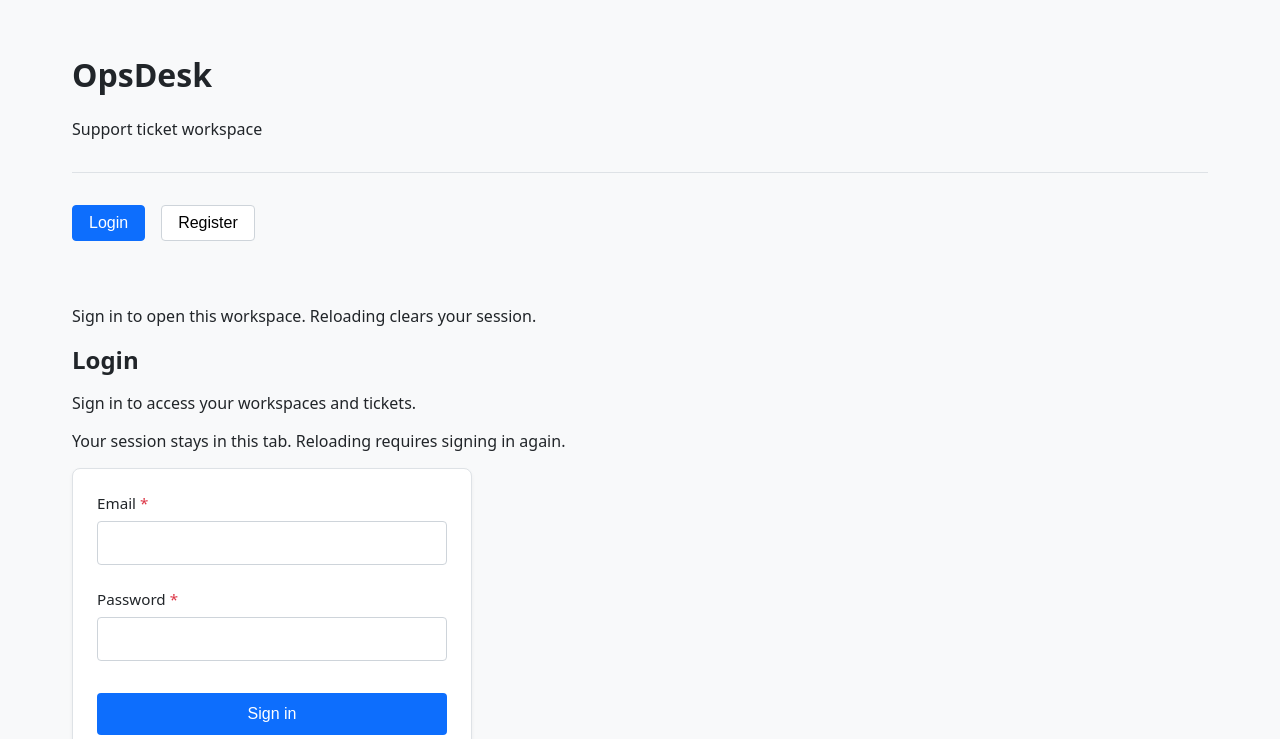
Scenario: lists memberships with roles and navigates to the selected organization
Step 1. Type "demo@example.com" into the field labelled "Email *" → [272, 543], box x1=97 y1=521 x2=447 y2=565
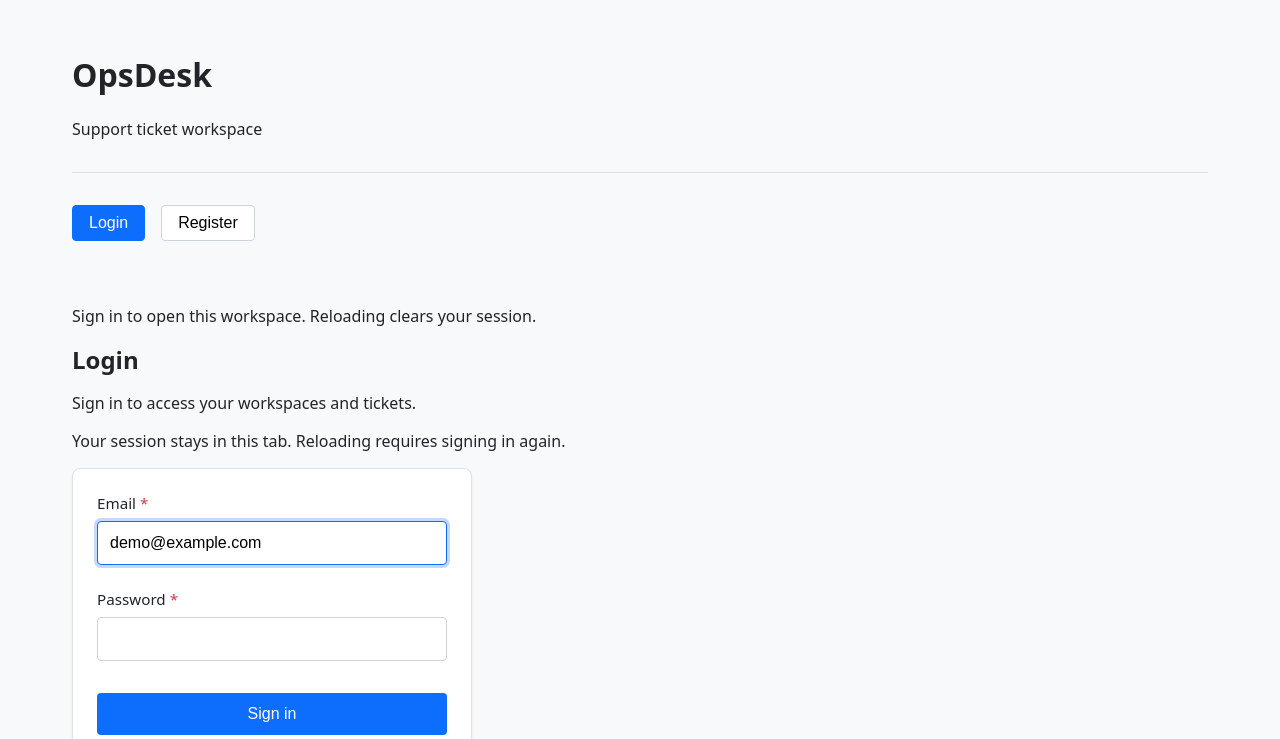
Step 2. Type "demo-password-12345" into the password field labelled "Password *" → [272, 639], box x1=97 y1=617 x2=447 y2=661
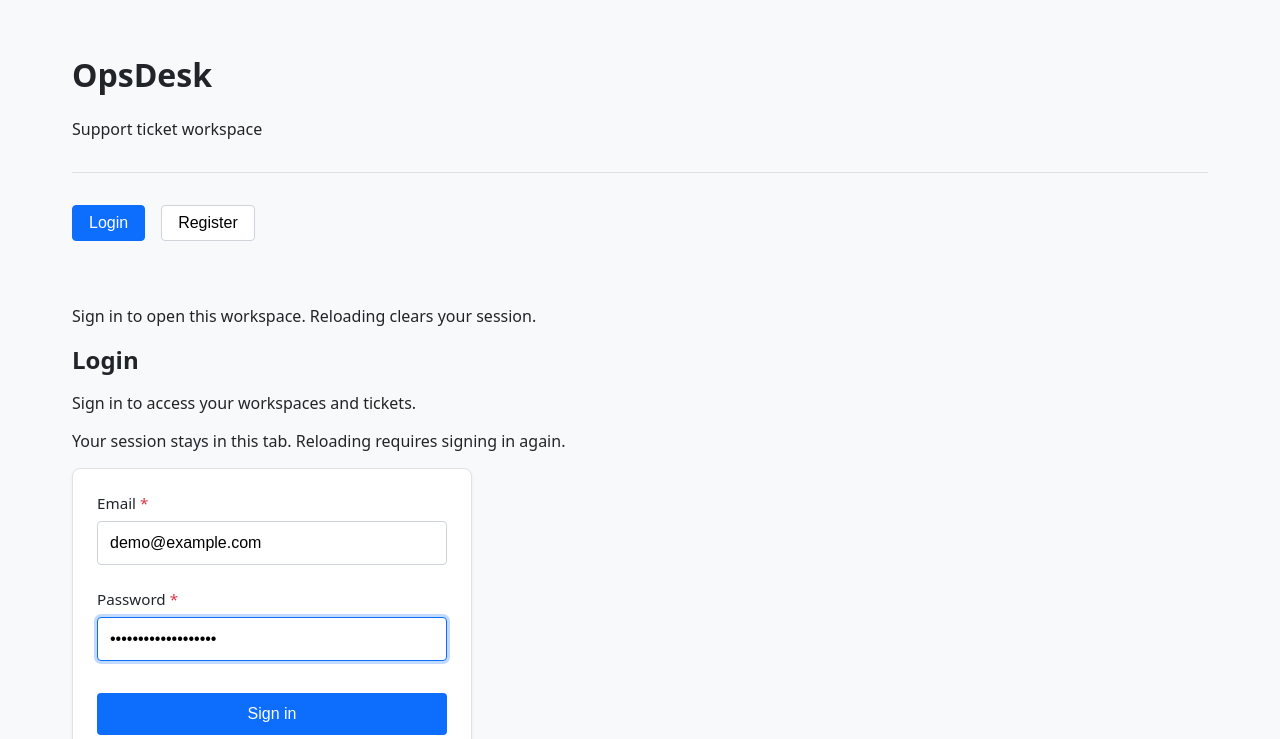
Step 3. Click the button "Sign in" → [272, 714], box x1=97 y1=693 x2=447 y2=735
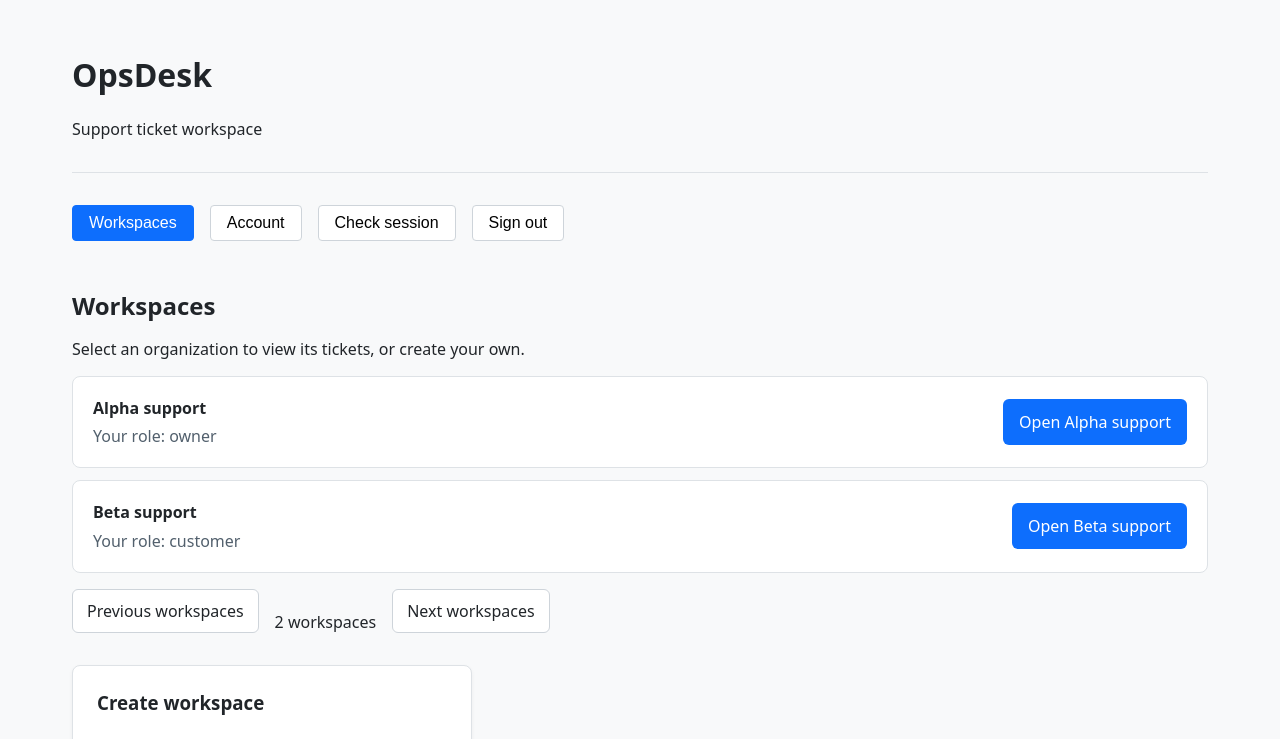
Now the button "Sign out" is shown, box x1=472 y1=205 x2=564 y2=241
Now the text "Your role: customer" is shown, box x1=93 y1=530 x2=240 y2=552
Step 4. Click the link "Open Beta support" → [1099, 526], box x1=1012 y1=504 x2=1187 y2=550
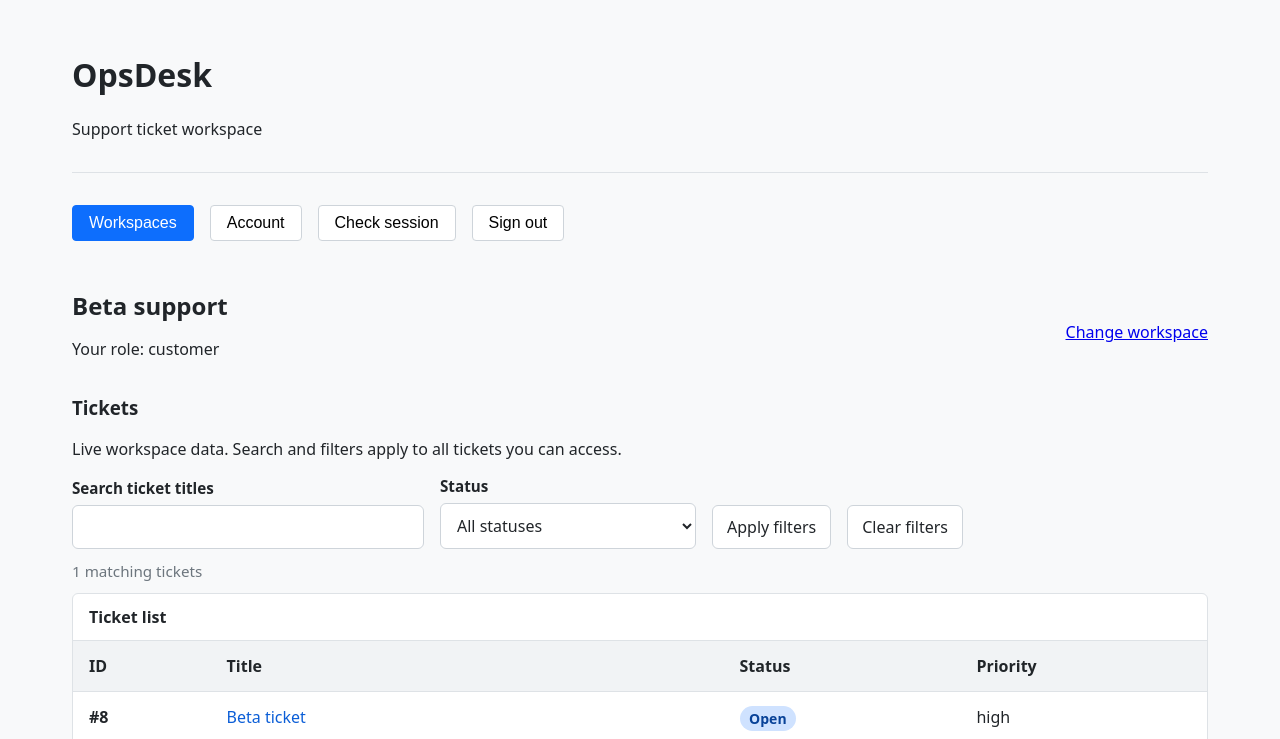
Now the button with aria-label "View ticket #8" is shown, box x1=227 y1=706 x2=306 y2=728
